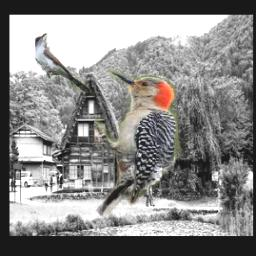Cuckoo: (34, 34, 90, 93)
Woodpecker: (93, 66, 186, 223)
